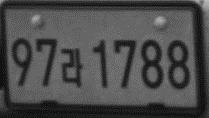1: (91, 37, 108, 88)
7: (113, 38, 136, 88), (35, 37, 57, 87)
8: (140, 38, 164, 88), (166, 39, 190, 89)
9: (11, 37, 32, 87)
라: (60, 47, 84, 88)
